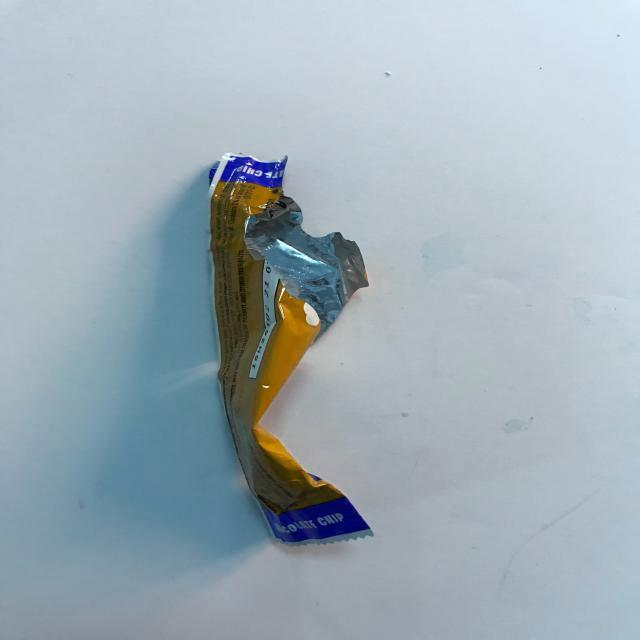plastic: (130, 138, 451, 572)
